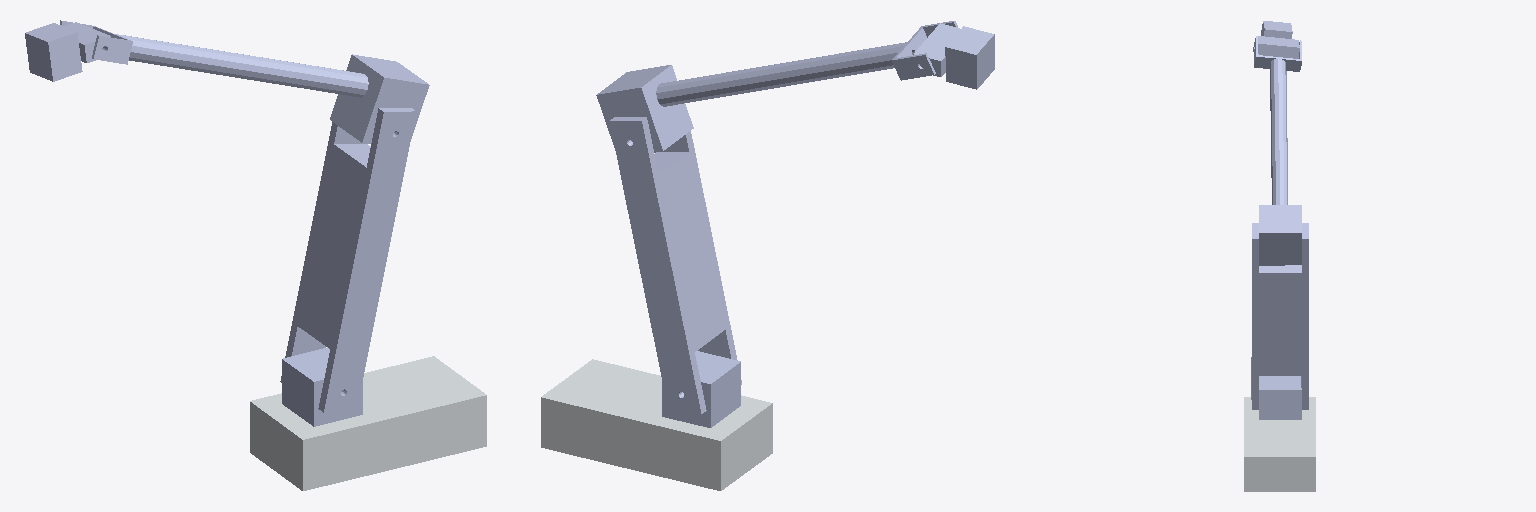
URDF robot description (box assembly.SLDASM):
<?xml version="1.0" encoding="utf-8"?>
<!-- This URDF was automatically created by SolidWorks to URDF Exporter! Originally created by [author] ([email redacted]) 
     Commit Version: 1.6.0-1-g15f4949  Build Version: 1.6.7594.29634
     For more information, please see http://wiki.ros.org/sw_urdf_exporter -->
<robot
  name="box assembly.SLDASM">
  <link
    name="base_link">
    <inertial>
      <origin
        xyz="-0.0274580289969885 -0.0207105005455901 -0.00905536026965592"
        rpy="0 0 0" />
      <mass
        value="9.70303539967061" />
      <inertia
        ixx="0.0233998461844056"
        ixy="-3.35979080212373E-18"
        ixz="2.05721058189735E-34"
        iyy="0.0779792534667865"
        iyz="1.33862046966629E-18"
        izz="0.0910291952248767" />
    </inertial>
    <visual>
      <origin
        xyz="0 0 0"
        rpy="0 0 0" />
      <geometry>
        <mesh
          filename="package://box assembly.SLDASM/meshes/base_link.STL" />
      </geometry>
      <material
        name="">
        <color
          rgba="0.898039215686275 0.917647058823529 0.929411764705882 1" />
      </material>
    </visual>
    <collision>
      <origin
        xyz="0 0 0"
        rpy="0 0 0" />
      <geometry>
        <mesh
          filename="package://box assembly.SLDASM/meshes/base_link.STL" />
      </geometry>
    </collision>
  </link>
  <link
    name="link_one">
    <inertial>
      <origin
        xyz="3.46944695195361E-18 0.0348337852081766 0"
        rpy="0 0 0" />
      <mass
        value="0.496146018366026" />
      <inertia
        ixx="0.000472189192152281"
        ixy="-6.07421701937923E-20"
        ixz="9.06748770035729E-19"
        iyy="0.000604174710033628"
        iyz="-2.16911456103217E-20"
        izz="0.000538862076956333" />
    </inertial>
    <visual>
      <origin
        xyz="0 0 0"
        rpy="0 0 0" />
      <geometry>
        <mesh
          filename="package://box assembly.SLDASM/meshes/link_one.STL" />
      </geometry>
      <material
        name="">
        <color
          rgba="0.792156862745098 0.819607843137255 0.933333333333333 1" />
      </material>
    </visual>
    <collision>
      <origin
        xyz="0 0 0"
        rpy="0 0 0" />
      <geometry>
        <mesh
          filename="package://box assembly.SLDASM/meshes/link_one.STL" />
      </geometry>
    </collision>
  </link>
  <joint
    name="joint_one"
    type="continuous">
    <origin
      xyz="-0.102589157553393 -0.0207105005455901 0.0309446397303441"
      rpy="1.5707963267949 0 1.58235907148083" />
    <parent
      link="base_link" />
    <child
      link="link_one" />
    <axis
      xyz="0 1 0" />
  </joint>
  <link
    name="link_two">
    <inertial>
      <origin
        xyz="0.197504472468739 2.46989928509578E-14 -2.24820162486594E-15"
        rpy="0 0 0" />
      <mass
        value="2.10728761101962" />
      <inertia
        ixx="0.00352146866814831"
        ixy="-2.29945220037251E-15"
        ixz="2.49341637931175E-16"
        iyy="0.0218829260185023"
        iyz="2.83789918648081E-17"
        izz="0.0243396535915128" />
    </inertial>
    <visual>
      <origin
        xyz="0 0 0"
        rpy="0 0 0" />
      <geometry>
        <mesh
          filename="package://box assembly.SLDASM/meshes/link_two.STL" />
      </geometry>
      <material
        name="">
        <color
          rgba="0.792156862745098 0.819607843137255 0.933333333333333 1" />
      </material>
    </visual>
    <collision>
      <origin
        xyz="0 0 0"
        rpy="0 0 0" />
      <geometry>
        <mesh
          filename="package://box assembly.SLDASM/meshes/link_two.STL" />
      </geometry>
    </collision>
  </link>
  <joint
    name="joint_two"
    type="continuous">
    <origin
      xyz="0 0.05 0"
      rpy="3.14159265358979 -0.218531438814536 1.57079632679502" />
    <parent
      link="link_one" />
    <child
      link="link_two" />
    <axis
      xyz="0 1 0" />
  </joint>
  <link
    name="link_three">
    <inertial>
      <origin
        xyz="0.0966050100448868 0.0325982245755421 3.36536354339501E-16"
        rpy="0 0 0" />
      <mass
        value="1.13547562843725" />
      <inertia
        ixx="0.00124504244325037"
        ixy="-0.00136038341867333"
        ixz="1.70931248755918E-18"
        iyy="0.025570320079562"
        iyz="-5.28548559086683E-19"
        izz="0.0257880925814325" />
    </inertial>
    <visual>
      <origin
        xyz="0 0 0"
        rpy="0 0 0" />
      <geometry>
        <mesh
          filename="package://box assembly.SLDASM/meshes/link_three.STL" />
      </geometry>
      <material
        name="">
        <color
          rgba="0.792156862745098 0.819607843137255 0.933333333333333 1" />
      </material>
    </visual>
    <collision>
      <origin
        xyz="0 0 0"
        rpy="0 0 0" />
      <geometry>
        <mesh
          filename="package://box assembly.SLDASM/meshes/link_three.STL" />
      </geometry>
    </collision>
  </link>
  <joint
    name="joint_three"
    type="continuous">
    <origin
      xyz="0.391000000000002 0 0"
      rpy="-1.57079632679497 -1.41730518898606 0" />
    <parent
      link="link_two" />
    <child
      link="link_three" />
    <axis
      xyz="0 0 1" />
  </joint>
  <link
    name="link_four">
    <inertial>
      <origin
        xyz="-9.71445146547012E-17 0.00989938457592143 -5.55111512312578E-17"
        rpy="0 0 0" />
      <mass
        value="0.034317902754904" />
      <inertia
        ixx="1.54842126880431E-05"
        ixy="-3.48606997354348E-20"
        ixz="3.56812629030874E-19"
        iyy="5.65148521425934E-05"
        iyz="2.30287082534763E-20"
        izz="6.51748950462002E-05" />
    </inertial>
    <visual>
      <origin
        xyz="0 0 0"
        rpy="0 0 0" />
      <geometry>
        <mesh
          filename="package://box assembly.SLDASM/meshes/link_four.STL" />
      </geometry>
      <material
        name="">
        <color
          rgba="0.792156862745098 0.819607843137255 0.933333333333333 1" />
      </material>
    </visual>
    <collision>
      <origin
        xyz="0 0 0"
        rpy="0 0 0" />
      <geometry>
        <mesh
          filename="package://box assembly.SLDASM/meshes/link_four.STL" />
      </geometry>
    </collision>
  </link>
  <joint
    name="joint_four"
    type="continuous">
    <origin
      xyz="0.487991135076232 0.0450000000000007 0"
      rpy="0 -1.42086851891227 -1.5707963267949" />
    <parent
      link="link_three" />
    <child
      link="link_four" />
    <axis
      xyz="0 1 0" />
  </joint>
  <link
    name="link_five">
    <inertial>
      <origin
        xyz="0.000280506454183913 1.11022302462516E-16 -0.00742880546848129"
        rpy="0 0 0" />
      <mass
        value="0.110317203673205" />
      <inertia
        ixx="2.58845788049668E-05"
        ixy="6.14098886759368E-20"
        ixz="-2.29882064744539E-07"
        iyy="9.08688682412563E-05"
        iyz="-1.81582688067641E-20"
        izz="7.95846864822047E-05" />
    </inertial>
    <visual>
      <origin
        xyz="0 0 0"
        rpy="0 0 0" />
      <geometry>
        <mesh
          filename="package://box assembly.SLDASM/meshes/link_five.STL" />
      </geometry>
      <material
        name="">
        <color
          rgba="0.792156862745098 0.819607843137255 0.933333333333333 1" />
      </material>
    </visual>
    <collision>
      <origin
        xyz="0 0 0"
        rpy="0 0 0" />
      <geometry>
        <mesh
          filename="package://box assembly.SLDASM/meshes/link_five.STL" />
      </geometry>
    </collision>
  </link>
  <joint
    name="joint_five"
    type="continuous">
    <origin
      xyz="0 0.0363088649237702 0"
      rpy="1.14381079025874 0 0" />
    <parent
      link="link_four" />
    <child
      link="link_five" />
    <axis
      xyz="1 0 0" />
  </joint>
  <link
    name="end_effector">
    <inertial>
      <origin
        xyz="-0.0299999999999999 0.0250876489030857 -0.0300000000000005"
        rpy="0 0 0" />
      <mass
        value="0.179214601836603" />
      <inertia
        ixx="9.11730102256747E-05"
        ixy="3.64224167319349E-20"
        ixz="-1.27054942088145E-20"
        iyy="0.000107990182522958"
        iyz="-6.73391193067169E-20"
        izz="9.11730102256747E-05" />
    </inertial>
    <visual>
      <origin
        xyz="0 0 0"
        rpy="0 0 0" />
      <geometry>
        <mesh
          filename="package://box assembly.SLDASM/meshes/end_effector.STL" />
      </geometry>
      <material
        name="">
        <color
          rgba="0.792156862745098 0.819607843137255 0.933333333333333 1" />
      </material>
    </visual>
    <collision>
      <origin
        xyz="0 0 0"
        rpy="0 0 0" />
      <geometry>
        <mesh
          filename="package://box assembly.SLDASM/meshes/end_effector.STL" />
      </geometry>
    </collision>
  </link>
  <joint
    name="fixed_end"
    type="fixed">
    <origin
      xyz="-0.0300000000000009 -0.0300000000000019 -0.0300000000000005"
      rpy="-1.57079632679489 0 3.14159265358979" />
    <parent
      link="link_five" />
    <child
      link="end_effector" />
    <axis
      xyz="0 0 0" />
  </joint>
</robot>

--- Facts derived from the render (not from the file) ---
Views: 3 orthographic renders of the robot side by side, from view 1: azimuth 30°, elevation 25°; view 2: azimuth 150°, elevation 25°; view 3: azimuth 270°, elevation 25°.
Model box assembly.SLDASM with 7 links and 6 joints (5 continuous, 1 fixed), rooted at base_link, posed every joint at zero.
Links seen in each view (by area): view 1: link_two, base_link, link_three, link_one, end_effector, link_four, link_five; view 2: link_two, base_link, link_three, link_one, end_effector, link_four, link_five; view 3: link_two, base_link, link_three, link_one, link_five, link_four.
Link boxes in pixels (x1,y1,x2,y2): link_two: (280,108,416,412); base_link: (250,356,486,490); link_three: (116,34,429,143); link_one: (282,347,362,426); end_effector: (25,23,82,81); link_four: (60,20,132,64); link_five: (63,22,110,62); link_two: (610,117,741,414); base_link: (541,359,772,490); link_three: (596,42,912,152); link_one: (662,351,740,427); end_effector: (945,26,994,89); link_four: (892,21,957,80); link_five: (913,23,960,76); link_two: (1251,223,1308,409); base_link: (1244,397,1315,491); link_three: (1259,59,1301,265); link_one: (1259,376,1301,419); link_five: (1258,36,1299,58); link_four: (1253,36,1301,71).
Size in the robot's own frame: 0.6957 by 0.15 by 0.7765 metres.
7 mesh visuals loaded from 7 distinct referenced files (7 binary STL).